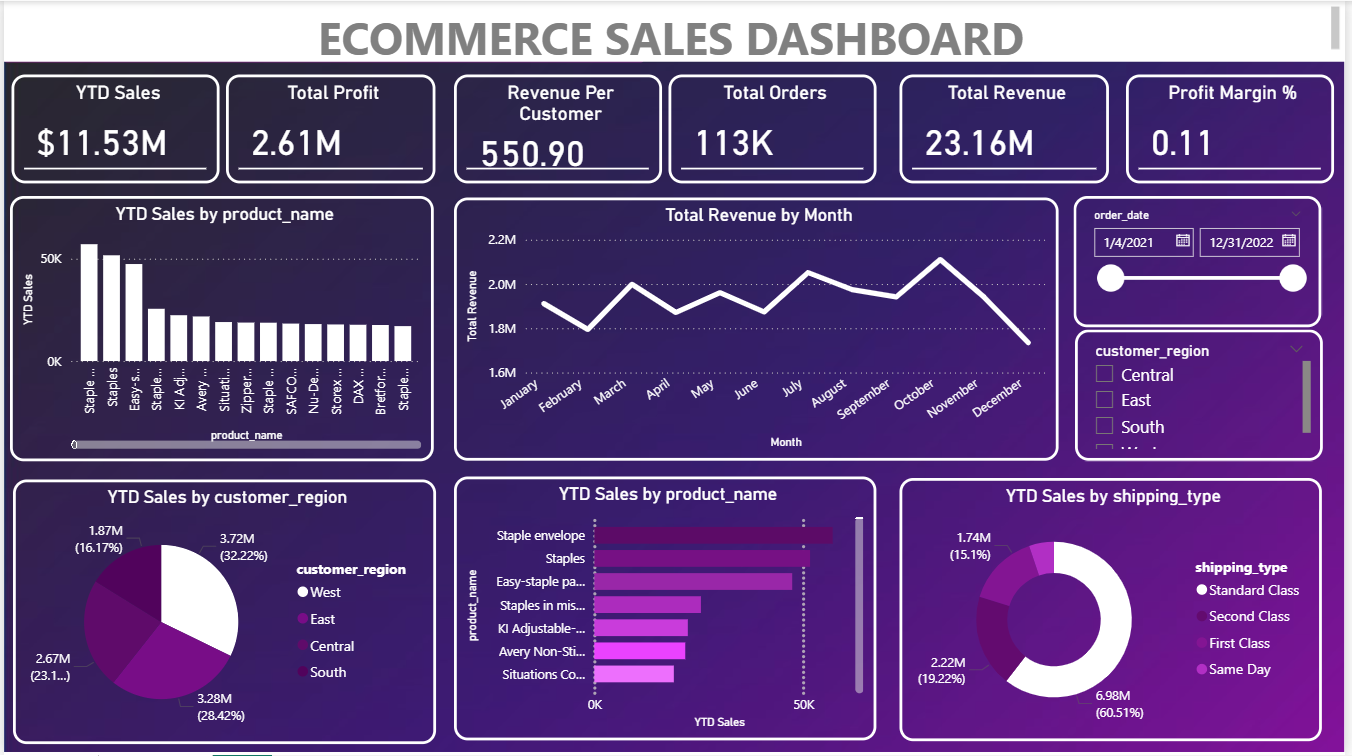

This screenshot's page, from the dashboard's own definition file:
{"tool":"powerbi","page":{"name":"Page 1","canvas":[1280,720],"ordinal":0},"visuals":[{"type":"shape","box":[0,0,610.8,58.9],"z":0},{"type":"textbox","box":[0,0,1280.5,58.3],"z":1000},{"type":"cardVisual","title":"YTD Sales","fields":{"Data":["ecommerce_data.YTD Sales"]},"box":[7.9,70.9,198.5,104],"z":2000},{"type":"cardVisual","title":"Total Profit","fields":{"Data":["ecommerce_data.Total Profit"]},"box":[212.6,70.9,200,104],"z":4000},{"type":"cardVisual","title":"Revenue Per Customer","fields":{"Data":["ecommerce_data.Revenue Per Customer"]},"box":[430,70.9,198.5,104],"z":5000},{"type":"donutChart","fields":{"Category":["ecommerce_data.shipping_type"],"Y":["ecommerce_data.YTD Sales"]},"box":[854.7,455.7,403,251.1],"z":6000},{"type":"pieChart","fields":{"Category":["ecommerce_data.customer_region"],"Y":["ecommerce_data.YTD Sales"]},"box":[8,456.5,404,252.9],"z":7000},{"type":"barChart","fields":{"Category":["ecommerce_data.product_name"],"Y":["ecommerce_data.YTD Sales"]},"box":[430,453.6,403.2,252],"z":8000},{"type":"clusteredColumnChart","fields":{"Category":["ecommerce_data.product_name"],"Y":["ecommerce_data.YTD Sales"]},"box":[6.3,185.9,404.8,253.6],"z":9000},{"type":"cardVisual","title":"Total Orders","fields":{"Data":["ecommerce_data.Total Orders"]},"box":[634.8,70.9,198.5,104],"z":10002},{"type":"cardVisual","title":"Total Revenue ","fields":{"Data":["ecommerce_data.Total Revenue"]},"box":[855.3,70.9,200,104],"z":10003},{"type":"cardVisual","title":"Profit Margin %","fields":{"Data":["ecommerce_data.Profit Margin %"]},"box":[1071.1,70.9,198.5,104],"z":10004},{"type":"lineChart","fields":{"Category":["Calendar.Month"],"Y":["ecommerce_data.Total Revenue"]},"box":[429.4,188.4,577.2,251.1],"z":10006},{"type":"slicer","fields":{"Values":["ecommerce_data.order_date"]},"box":[1020.8,186.3,237,125.6],"z":10007},{"type":"slicer","fields":{"Values":["ecommerce_data.customer_region"]},"box":[1022.8,313.9,237,125.6],"z":10008}]}

Visuals, with their boxes in screenshot pixels (x1, y1, x2, y2), scaled from the page's 1280x720 canvas onto the 1352x756 screenshot:
shape: (x1=0, y1=0, x2=645, y2=62)
textbox: (x1=0, y1=0, x2=1351, y2=61)
"YTD Sales" cardVisual: (x1=8, y1=74, x2=218, y2=184)
"Total Profit" cardVisual: (x1=225, y1=74, x2=436, y2=184)
"Revenue Per Customer" cardVisual: (x1=454, y1=74, x2=664, y2=184)
donutChart - ecommerce_data.shipping_type x ecommerce_data.YTD Sales: (x1=903, y1=478, x2=1328, y2=742)
pieChart - ecommerce_data.customer_region x ecommerce_data.YTD Sales: (x1=8, y1=479, x2=435, y2=745)
barChart - ecommerce_data.product_name x ecommerce_data.YTD Sales: (x1=454, y1=476, x2=880, y2=741)
clusteredColumnChart - ecommerce_data.product_name x ecommerce_data.YTD Sales: (x1=7, y1=195, x2=434, y2=461)
"Total Orders" cardVisual: (x1=671, y1=74, x2=880, y2=184)
"Total Revenue " cardVisual: (x1=903, y1=74, x2=1115, y2=184)
"Profit Margin %" cardVisual: (x1=1131, y1=74, x2=1341, y2=184)
lineChart - Calendar.Month x ecommerce_data.Total Revenue: (x1=454, y1=198, x2=1063, y2=461)
slicer - ecommerce_data.order_date: (x1=1078, y1=196, x2=1329, y2=327)
slicer - ecommerce_data.customer_region: (x1=1080, y1=330, x2=1331, y2=461)
